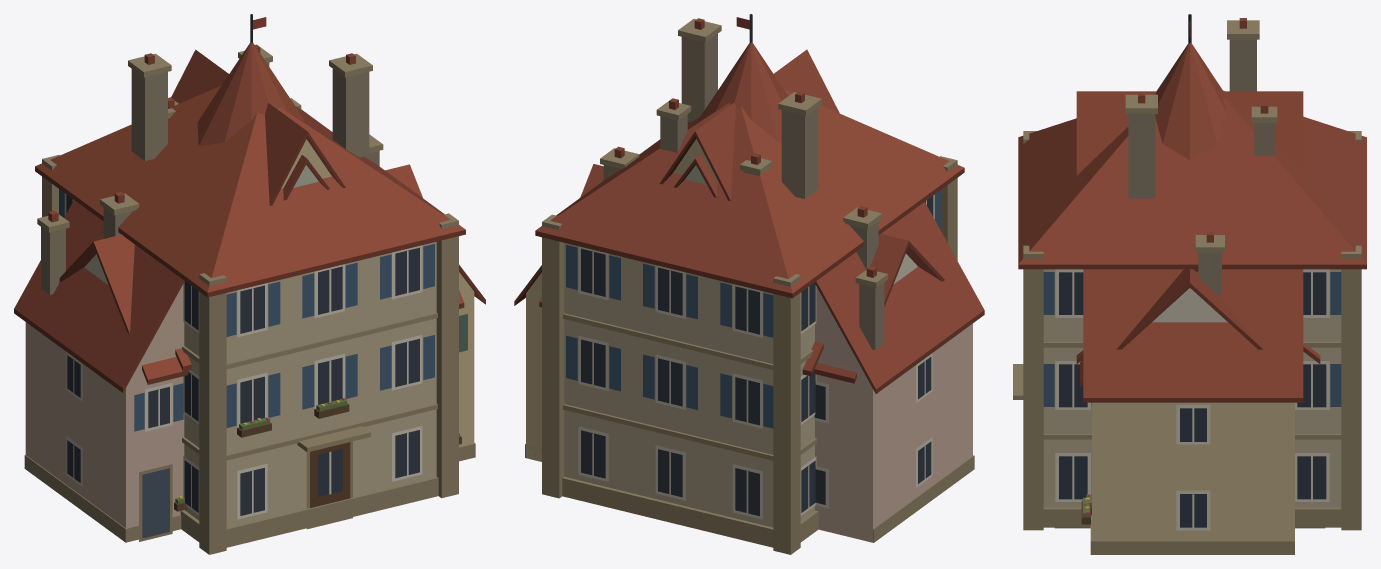
Rendered from town.glb.
3 renders of one model, left to right at view 1: azimuth 30°, elevation 25°; view 2: azimuth 150°, elevation 25°; view 3: azimuth 270°, elevation 25°, orthographic.
Parts seen in each view (by area): view 1: t_big_red, t_row_red, t_wide_red, t_tall_red, t_towerh_red; view 2: t_big_red, t_row_red, t_tall_red, t_wide_red, t_towerh_red; view 3: t_big_red, t_row_red, t_tall_red, t_towerh_red, t_wide_red.
Boxes of the visible parts, x1,y1,x2,y2 form: t_big_red: (35,53,465,554); t_row_red: (14,97,485,542); t_wide_red: (59,134,464,511); t_tall_red: (171,44,345,205); t_towerh_red: (197,14,305,145); t_big_red: (535,18,964,554); t_row_red: (514,153,984,542); t_tall_red: (656,49,839,200); t_wide_red: (539,146,944,383); t_towerh_red: (697,14,787,142); t_big_red: (1013,18,1366,530); t_row_red: (1081,269,1303,554); t_tall_red: (1076,91,1303,175); t_towerh_red: (1155,14,1225,160); t_wide_red: (1080,231,1263,515).
Size of the model in its own units: 18.75 by 22.32 by 15.68.
